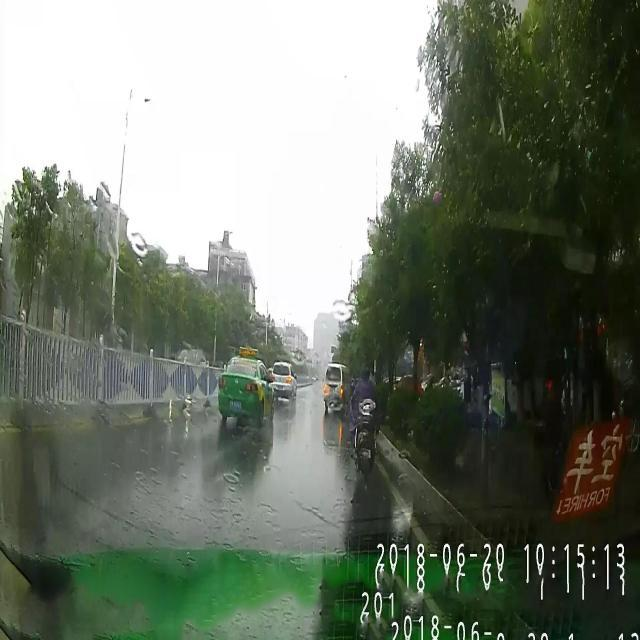car: (217, 346, 275, 422), (323, 364, 355, 416), (271, 362, 297, 404)
